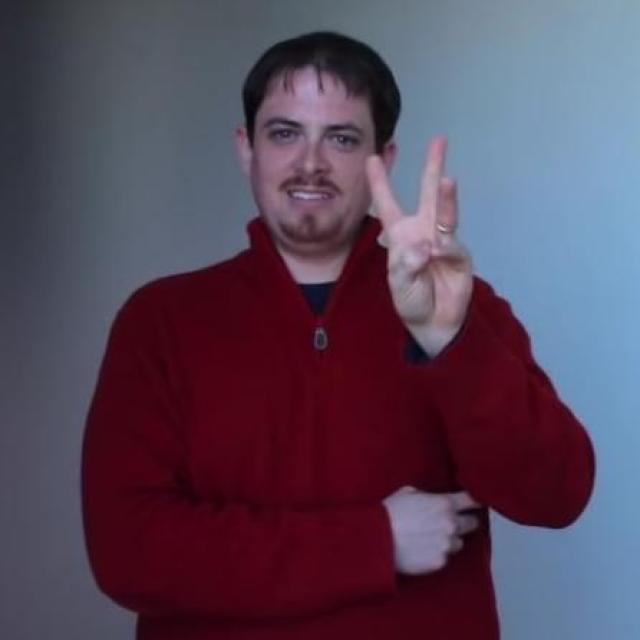W: (359, 132, 476, 330)
